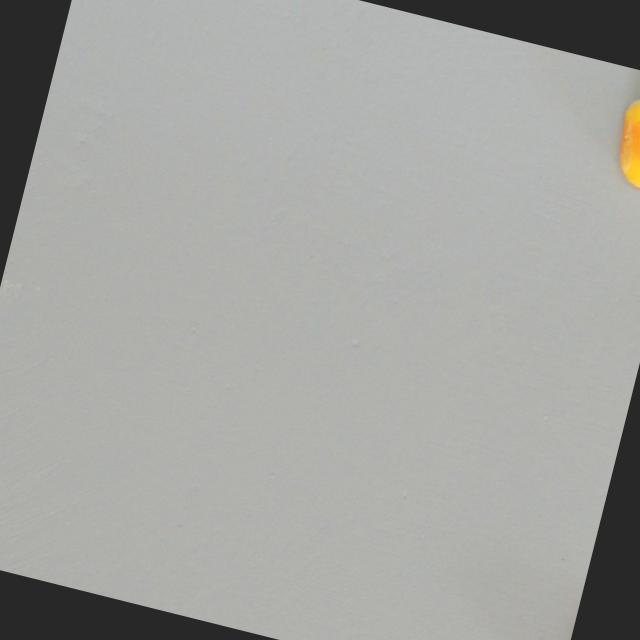dañado: (602, 69, 640, 188)
